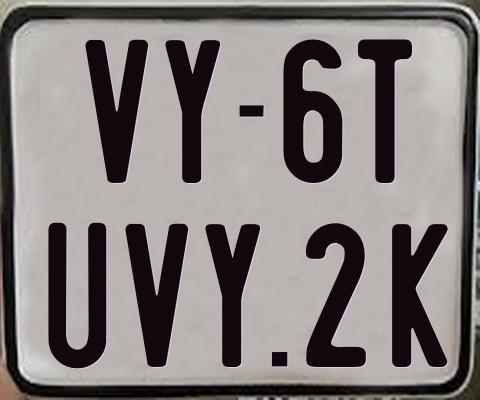2: (306, 223, 368, 370)
6: (283, 36, 342, 181)
K: (391, 221, 452, 365)
T: (356, 39, 413, 187)
U: (47, 220, 111, 371)
V: (125, 221, 192, 370), (84, 39, 150, 183)
Y: (165, 38, 224, 186), (202, 224, 258, 367)
